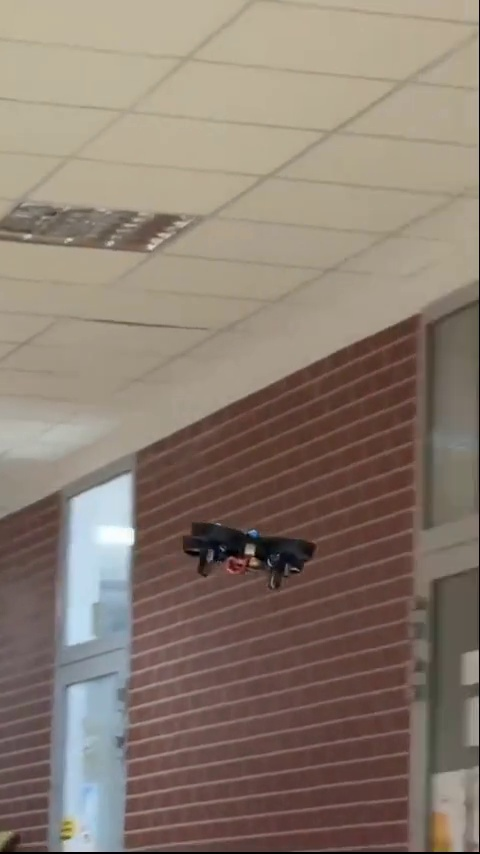drone: (185, 515, 307, 587)
